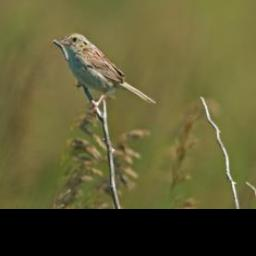Sparrow: (56, 31, 157, 115)
